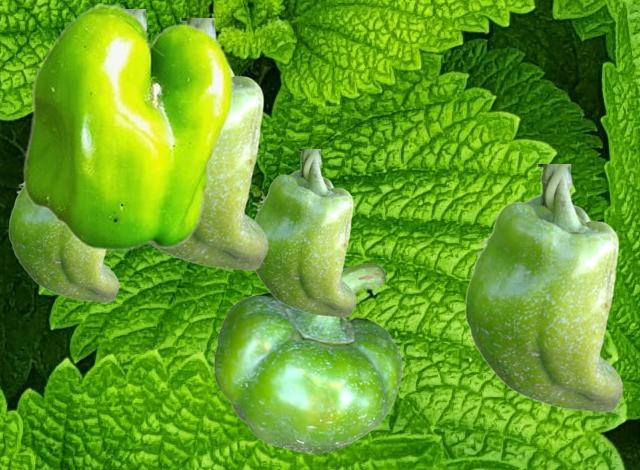bell_pepper: (22, 3, 232, 250), (464, 164, 622, 411), (214, 262, 401, 452), (150, 18, 267, 269), (254, 149, 355, 316), (8, 183, 118, 301)
